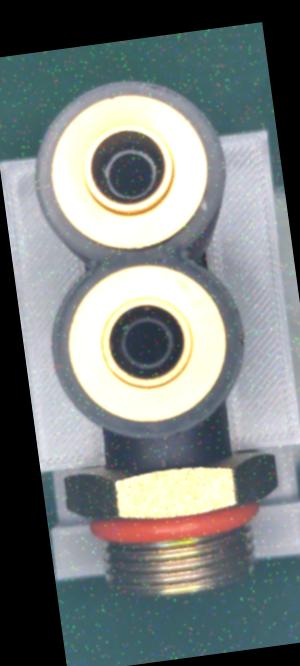white mark: (154, 455, 171, 471)
